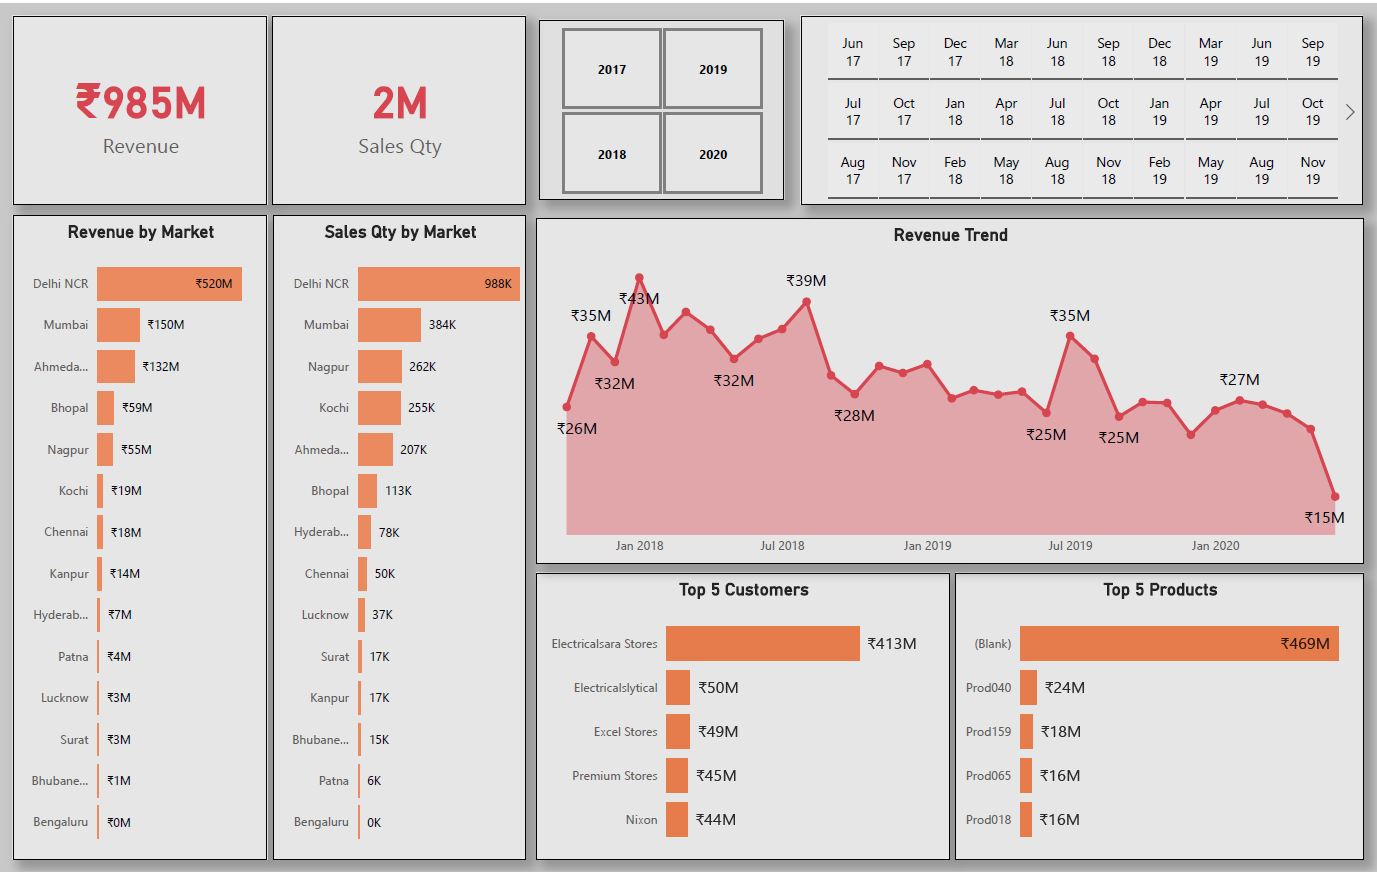

The page's visual inventory and layout, read from the dashboard file:
{"tool":"powerbi","page":{"name":"Key Insights","canvas":[1350,850],"ordinal":0},"visuals":[{"type":"card","fields":{"Values":["BaseMeasures (2).Revenue"]},"box":[13.3,11.7,248.3,185],"z":0},{"type":"card","fields":{"Values":["BaseMeasures (2).Sales Qty"]},"box":[266.7,11.7,248.3,185],"z":1000},{"type":"barChart","title":"Revenue by Market","fields":{"Y":["BaseMeasures (2).Revenue"],"Category":["sales markets.markets_name"]},"box":[13.3,206.7,248.3,631.7],"z":2000},{"type":"barChart","title":"Sales Qty by Market","fields":{"Y":["BaseMeasures (2).Sales Qty"],"Category":["sales markets.markets_name"]},"box":[268.3,206.7,246.7,631.7],"z":3000},{"type":"slicer","fields":{"Values":["sales date.year"]},"box":[528,16,240,176],"z":4000},{"type":"slicer","fields":{"Values":["sales date.cy_date"]},"box":[784.4,11.6,550,185.2],"z":5000},{"type":"barChart","title":"Top 5 Customers","fields":{"Y":["BaseMeasures (2).Revenue"],"Category":["sales customers.custmer_name"]},"box":[525,556.7,405,281.7],"z":6000},{"type":"barChart","title":"Top 5 Products","fields":{"Y":["BaseMeasures (2).Revenue"],"Category":["sales products.product_code"]},"box":[935,556.7,400,281.7],"z":7000},{"type":"lineChart","title":"Revenue Trend","fields":{"Y":["BaseMeasures (2).Revenue"],"Category":["sales date.cy_date"]},"box":[525,210,810,338.3],"z":8000}]}

Visuals, with their boxes in screenshot pixels (x1, y1, x2, y2), scaled from the page's 1350x850 canvas onto the 1377x872 screenshot:
card - BaseMeasures (2).Revenue: bbox=(14, 12, 267, 202)
card - BaseMeasures (2).Sales Qty: bbox=(272, 12, 525, 202)
"Revenue by Market" barChart: bbox=(14, 212, 267, 860)
"Sales Qty by Market" barChart: bbox=(274, 212, 525, 860)
slicer - sales date.year: bbox=(539, 16, 783, 197)
slicer - sales date.cy_date: bbox=(800, 12, 1361, 202)
"Top 5 Customers" barChart: bbox=(536, 571, 949, 860)
"Top 5 Products" barChart: bbox=(954, 571, 1362, 860)
"Revenue Trend" lineChart: bbox=(536, 215, 1362, 562)
